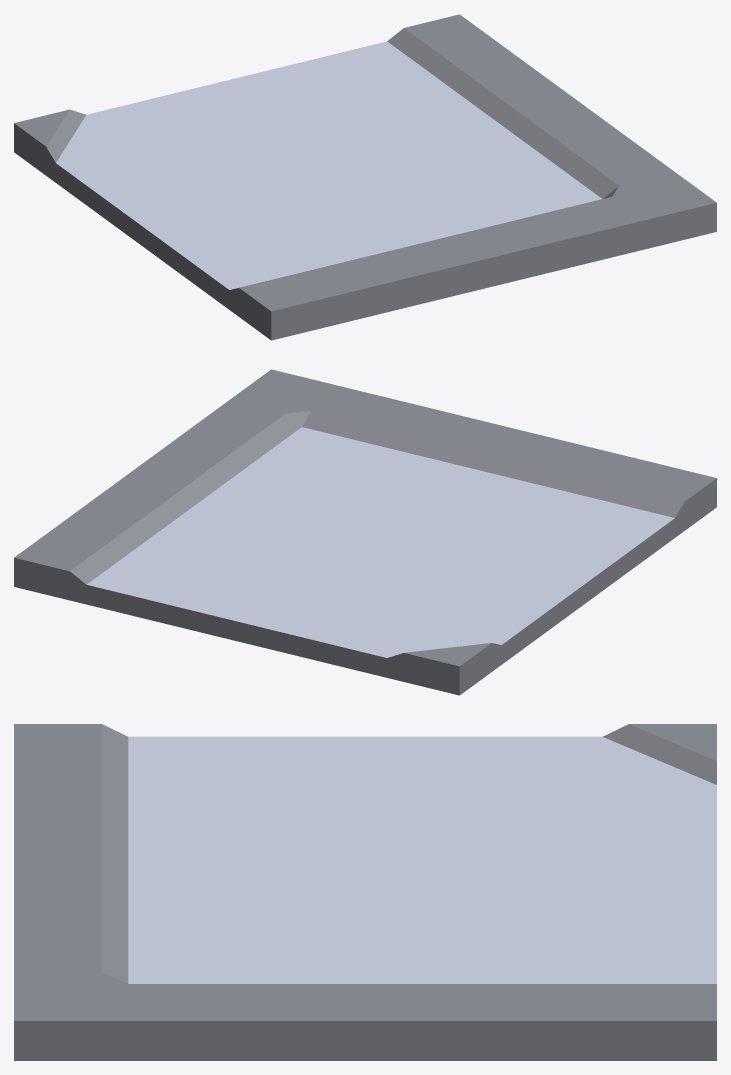
3 views of the same model, one above another, from view 1: azimuth 30°, elevation 25°; view 2: azimuth 150°, elevation 25°; view 3: azimuth 270°, elevation 25° (orthographic). The views are drawn at different scales.
Parts seen in each view (by area): view 1: object_037; view 2: object_037; view 3: object_037.
Boxes of the visible parts, x1,y1,x2,y2 form: object_037: (14, 14, 716, 340); object_037: (14, 369, 716, 695); object_037: (14, 724, 716, 1060).
Bounding box in the file's own units: 10 × 0.625 × 10.
